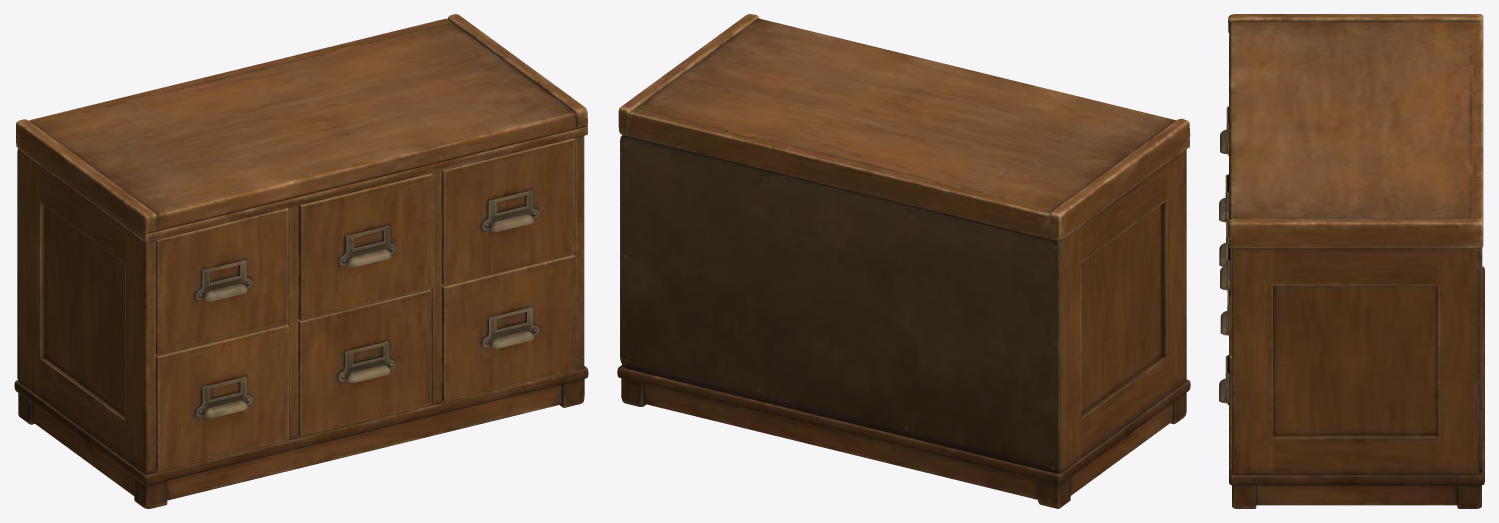
The model's file is vintage_wooden_drawer_01.glb.
3 renders of one model, left to right at view 1: azimuth 30°, elevation 25°; view 2: azimuth 150°, elevation 25°; view 3: azimuth 270°, elevation 25°, orthographic. The views are drawn at different scales.
Visible parts, largest first — view 1: vintage_wooden_drawer_01_body; view 2: vintage_wooden_drawer_01_body; view 3: vintage_wooden_drawer_01_body.
Boxes of the visible parts, left/top/right/bottom form: vintage_wooden_drawer_01_body: left=14, top=14, right=588, bottom=508; vintage_wooden_drawer_01_body: left=617, top=14, right=1190, bottom=508; vintage_wooden_drawer_01_body: left=1219, top=14, right=1484, bottom=508.
Bounding box in the file's own units: 0.8576 × 0.5455 × 0.4574.
1 material, 1 textured.
